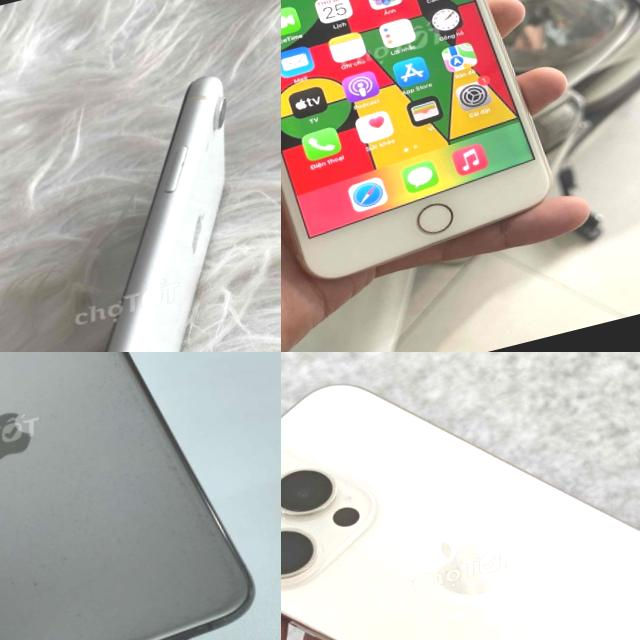gen_11: (0, 352, 274, 640)
gen_15: (281, 352, 640, 640)
gen_7_8: (281, 0, 551, 277)
gen_x_xs: (106, 76, 227, 352)
scratch: (164, 194, 188, 219), (197, 132, 220, 158)
